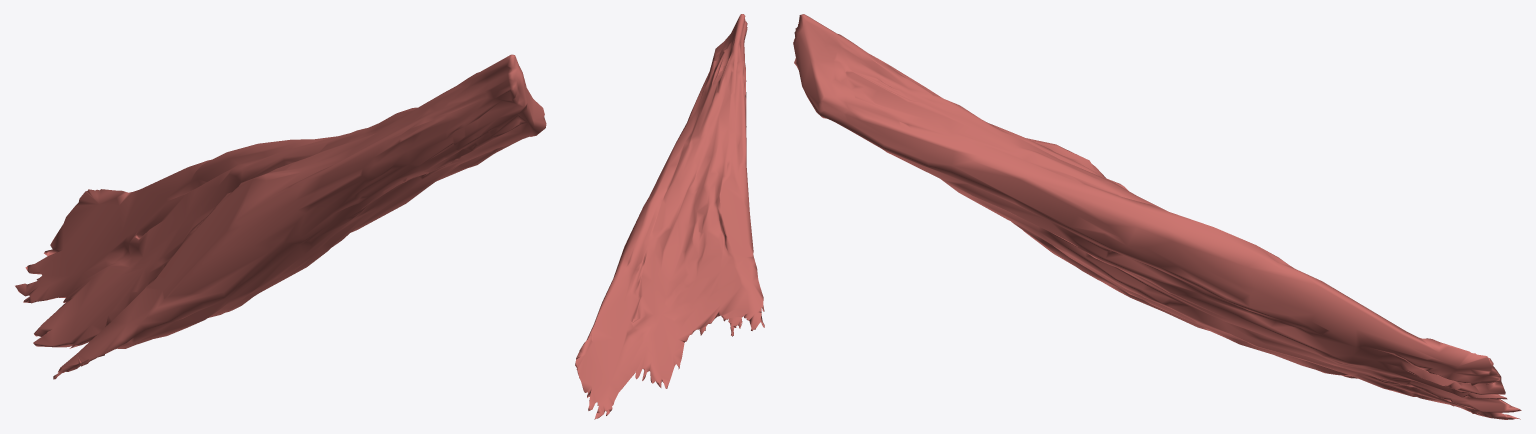
The picture shows the model from 3 angles, left to right: view 1: azimuth 30°, elevation 25°; view 2: azimuth 150°, elevation 25°; view 3: azimuth 270°, elevation 25°; orthographic projection. The views are drawn at different scales.
Parts seen in each view (by area): view 1: 左侧胸小肌; view 2: 左侧胸小肌; view 3: 左侧胸小肌.
Part boxes in pixels (box(x1,y1,x2,y2)): 左侧胸小肌: box(15, 54, 546, 379); 左侧胸小肌: box(575, 14, 764, 419); 左侧胸小肌: box(793, 14, 1521, 419).
Size of the model in its own units: 0.0867 by 0.1401 by 0.2048.
